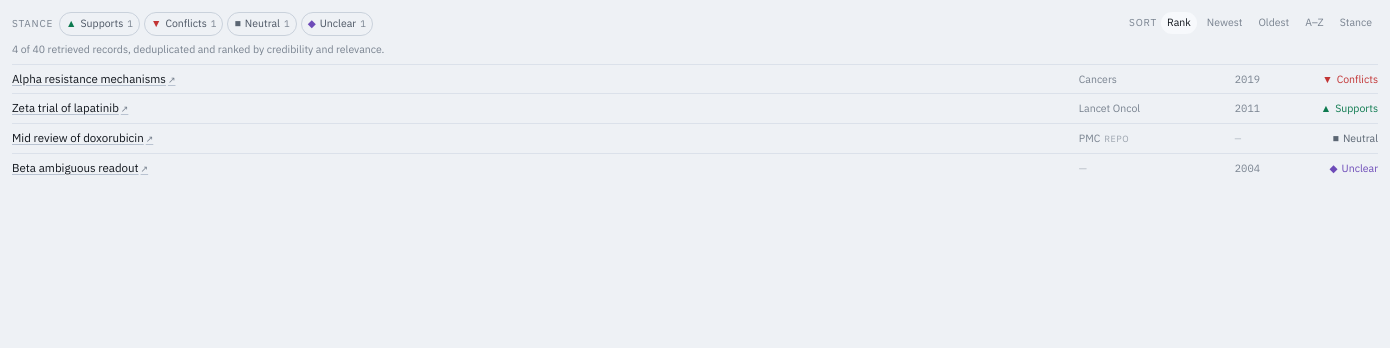
Test: LiteratureCitations › explains on hover how a stance is decided, quoting the real phrases
Hover over the button with aria-label "Conflicts: 1 source" at (184, 24), box [144,12,223,36]
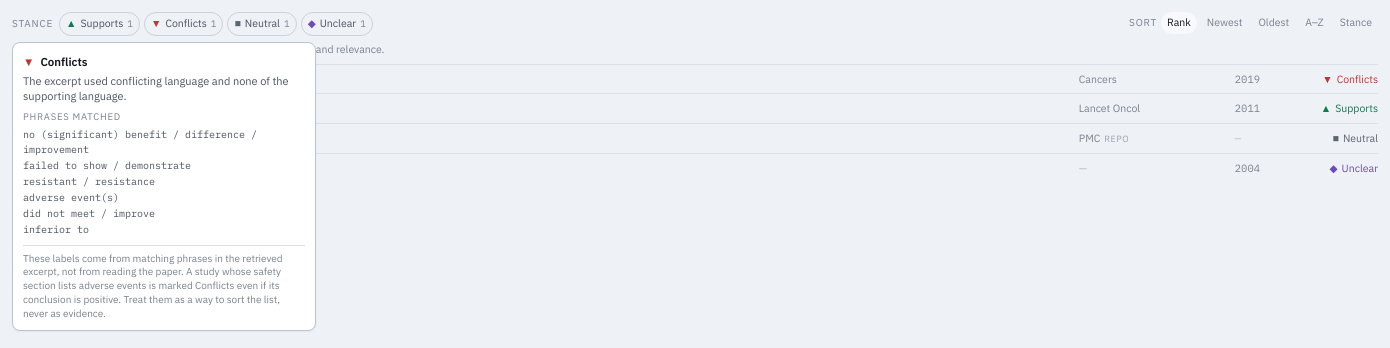
Result: the tooltip shows "conflicting language and none of the supporting" at [23,74,289,103]
Result: the tooltip shows "adverse event(s)" at [23,190,119,204]
Result: the tooltip shows "not from reading the paper" at [23,252,283,320]
